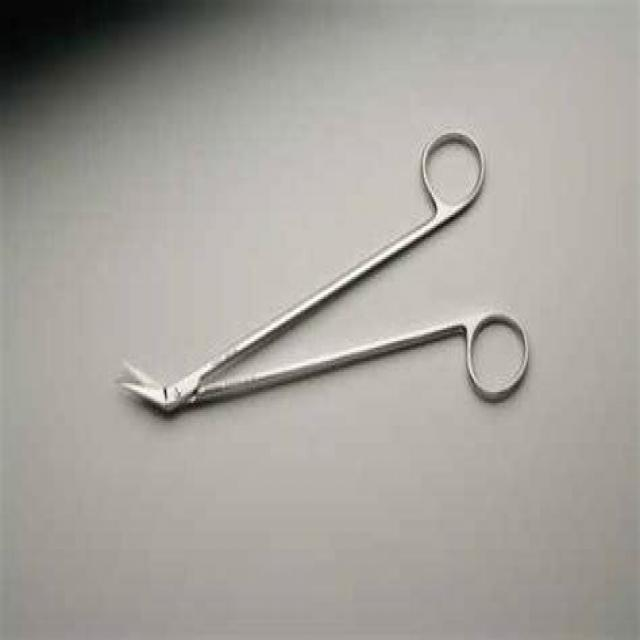Potts: (114, 124, 536, 423)
